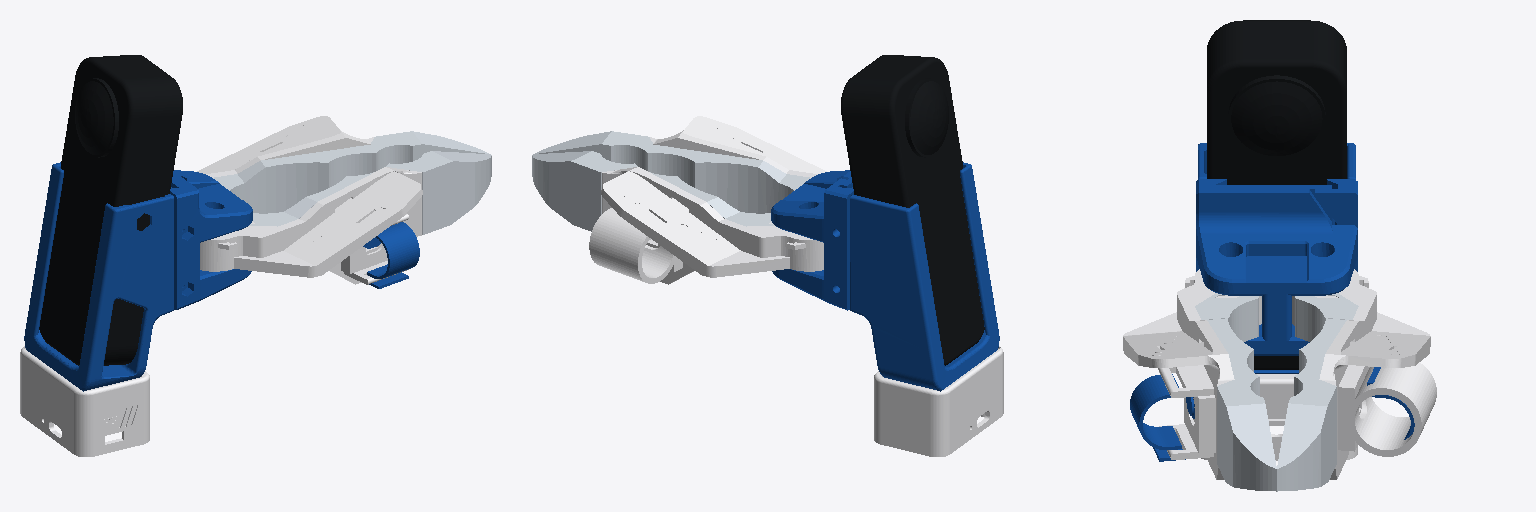
The robot description file, URDF, robot "pg_chopstick_data_right":
<?xml version="1.0"?>
<!-- PG Chopstick, generated by chopstick/cad/urdf.py. Units: m, rad. -->
<robot name="pg_chopstick_data_right">
  <material name="pg_blue"><color rgba="0.12 0.37 0.68 1"/></material>
  <material name="pg_white"><color rgba="0.96 0.96 0.97 1"/></material>
  <material name="tpu"><color rgba="0.87 0.9 0.93 1"/></material>
  <material name="camera"><color rgba="0.11 0.12 0.13 1"/></material>
  <link name="chopstick_base">
    <visual name="chopstick_base_dc"><origin xyz="0 0 0" rpy="0 0 0"/><geometry><mesh filename="meshes/chopstick_base_dc.stl" scale="0.001 0.001 0.001"/></geometry><material name="pg_blue"/></visual>
    <collision name="chopstick_base_dc"><origin xyz="0 0 0" rpy="0 0 0"/><geometry><mesh filename="meshes/chopstick_base_dc.stl" scale="0.001 0.001 0.001"/></geometry></collision>
    <visual name="chopstick_clip_dc"><origin xyz="0 0 0" rpy="0 0 0"/><geometry><mesh filename="meshes/chopstick_clip_dc.stl" scale="0.001 0.001 0.001"/></geometry><material name="pg_blue"/></visual>
    <collision name="chopstick_clip_dc"><origin xyz="0 0 0" rpy="0 0 0"/><geometry><mesh filename="meshes/chopstick_clip_dc.stl" scale="0.001 0.001 0.001"/></geometry></collision>
    <visual name="x5_lite_frame"><origin xyz="0 0 0" rpy="0 0 0"/><geometry><mesh filename="meshes/x5_lite_frame.stl" scale="0.001 0.001 0.001"/></geometry><material name="pg_blue"/></visual>
    <collision name="x5_lite_frame"><origin xyz="0 0 0" rpy="0 0 0"/><geometry><mesh filename="meshes/x5_lite_frame.stl" scale="0.001 0.001 0.001"/></geometry></collision>
    <visual name="pg_pod"><origin xyz="0 0 0" rpy="0 0 0"/><geometry><mesh filename="meshes/pg_pod.stl" scale="0.001 0.001 0.001"/></geometry><material name="pg_white"/></visual>
    <collision name="pg_pod"><origin xyz="0 0 0" rpy="0 0 0"/><geometry><mesh filename="meshes/pg_pod.stl" scale="0.001 0.001 0.001"/></geometry></collision>
    <visual name="pg_pod_lid"><origin xyz="0 0 0" rpy="0 0 0"/><geometry><mesh filename="meshes/pg_pod_lid.stl" scale="0.001 0.001 0.001"/></geometry><material name="pg_white"/></visual>
    <collision name="pg_pod_lid"><origin xyz="0 0 0" rpy="0 0 0"/><geometry><mesh filename="meshes/pg_pod_lid.stl" scale="0.001 0.001 0.001"/></geometry></collision>
    <visual name="insta360_x5_envelope"><origin xyz="0 0 0" rpy="0 0 0"/><geometry><mesh filename="meshes/insta360_x5_envelope.stl" scale="0.001 0.001 0.001"/></geometry><material name="camera"/></visual>
    <collision name="insta360_x5_envelope"><origin xyz="0 0 0" rpy="0 0 0"/><geometry><mesh filename="meshes/insta360_x5_envelope.stl" scale="0.001 0.001 0.001"/></geometry></collision>
    <inertial><origin xyz="0.0303763 0.000128389 0.00893458" rpy="0 0 0"/><mass value="0.27072"/><inertia ixx="0.0004251" ixy="5.685e-07" ixz="-5.066e-05" iyy="0.0004304" iyz="1.407e-06" izz="0.0001112"/></inertial>
  </link>
  <link name="chopstick_jaw_left">
    <visual name="tip_tpu_left"><origin xyz="0 0 0" rpy="0 0 0"/><geometry><mesh filename="meshes/tip_tpu_left_jawframe.stl" scale="0.001 0.001 0.001"/></geometry><material name="tpu"/></visual>
    <collision name="tip_tpu_left"><origin xyz="0 0 0" rpy="0 0 0"/><geometry><mesh filename="meshes/tip_tpu_left_jawframe.stl" scale="0.001 0.001 0.001"/></geometry></collision>
    <visual name="sleeve_strap_left"><origin xyz="0 0 0" rpy="0 0 0"/><geometry><mesh filename="meshes/sleeve_strap_left_jawframe.stl" scale="0.001 0.001 0.001"/></geometry><material name="pg_blue"/></visual>
    <collision name="sleeve_strap_left"><origin xyz="0 0 0" rpy="0 0 0"/><geometry><mesh filename="meshes/sleeve_strap_left_jawframe.stl" scale="0.001 0.001 0.001"/></geometry></collision>
    <visual name="jaw_left_dc"><origin xyz="0 0 0" rpy="0 0 0"/><geometry><mesh filename="meshes/jaw_left_dc_jawframe.stl" scale="0.001 0.001 0.001"/></geometry><material name="pg_white"/></visual>
    <collision name="jaw_left_dc"><origin xyz="0 0 0" rpy="0 0 0"/><geometry><mesh filename="meshes/jaw_left_dc_jawframe.stl" scale="0.001 0.001 0.001"/></geometry></collision>
    <inertial><origin xyz="0.0651854 0.00374824 -0.00374808" rpy="0 0 0"/><mass value="0.054642"/><inertia ixx="9.108e-06" ixy="7.191e-06" ixz="1.243e-06" iyy="6.957e-05" iyz="1.893e-07" izz="7.157e-05"/></inertial>
  </link>
  <link name="chopstick_tip_left"/>
  <link name="chopstick_jaw_right">
    <visual name="tip_tpu_right"><origin xyz="0 0 0" rpy="0 0 0"/><geometry><mesh filename="meshes/tip_tpu_right_jawframe.stl" scale="0.001 0.001 0.001"/></geometry><material name="tpu"/></visual>
    <collision name="tip_tpu_right"><origin xyz="0 0 0" rpy="0 0 0"/><geometry><mesh filename="meshes/tip_tpu_right_jawframe.stl" scale="0.001 0.001 0.001"/></geometry></collision>
    <visual name="sleeve_strap_right"><origin xyz="0 0 0" rpy="0 0 0"/><geometry><mesh filename="meshes/sleeve_strap_right_jawframe.stl" scale="0.001 0.001 0.001"/></geometry><material name="pg_blue"/></visual>
    <collision name="sleeve_strap_right"><origin xyz="0 0 0" rpy="0 0 0"/><geometry><mesh filename="meshes/sleeve_strap_right_jawframe.stl" scale="0.001 0.001 0.001"/></geometry></collision>
    <visual name="jaw_right_dc_button"><origin xyz="0 0 0" rpy="0 0 0"/><geometry><mesh filename="meshes/jaw_right_dc_button_jawframe.stl" scale="0.001 0.001 0.001"/></geometry><material name="pg_white"/></visual>
    <collision name="jaw_right_dc_button"><origin xyz="0 0 0" rpy="0 0 0"/><geometry><mesh filename="meshes/jaw_right_dc_button_jawframe.stl" scale="0.001 0.001 0.001"/></geometry></collision>
    <visual name="sleeve_button_cover_right"><origin xyz="0 0 0" rpy="0 0 0"/><geometry><mesh filename="meshes/sleeve_button_cover_right_jawframe.stl" scale="0.001 0.001 0.001"/></geometry><material name="pg_blue"/></visual>
    <collision name="sleeve_button_cover_right"><origin xyz="0 0 0" rpy="0 0 0"/><geometry><mesh filename="meshes/sleeve_button_cover_right_jawframe.stl" scale="0.001 0.001 0.001"/></geometry></collision>
    <inertial><origin xyz="0.0651759 -0.00371033 -0.00403049" rpy="0 0 0"/><mass value="0.054482"/><inertia ixx="9.286e-06" ixy="-7.159e-06" ixz="1.286e-06" iyy="6.99e-05" iyz="-4.554e-07" izz="7.165e-05"/></inertial>
  </link>
  <link name="chopstick_tip_right"/>
  <link name="chopstick_camera"/>
  <link name="chopstick_tcp"/>
  <joint name="chopstick_jaw" type="revolute">
    <parent link="chopstick_base"/><child link="chopstick_jaw_left"/>
    <origin xyz="0.06733 0.015 0" rpy="0 0 0"/><axis xyz="0 0 1"/>
    <limit lower="0.00000" upper="1.25664" effort="4" velocity="6"/>
  </joint>
  <joint name="chopstick_tip_left_joint" type="fixed"><parent link="chopstick_jaw_left"/><child link="chopstick_tip_left"/><origin xyz="0.137417 -0.015085 -0.003671" rpy="0 0 0"/></joint>
  <joint name="chopstick_jaw_right" type="revolute">
    <parent link="chopstick_base"/><child link="chopstick_jaw_right"/>
    <origin xyz="0.06733 -0.015 0" rpy="0 0 0"/><axis xyz="0 0 1"/>
    <limit lower="-1.25664" upper="0.00000" effort="4" velocity="6"/>
    <mimic joint="chopstick_jaw" multiplier="-1" offset="0"/>
  </joint>
  <joint name="chopstick_tip_right_joint" type="fixed"><parent link="chopstick_jaw_right"/><child link="chopstick_tip_right"/><origin xyz="0.137417 0.015085 -0.003671" rpy="0 0 0"/></joint>
  <joint name="chopstick_camera_joint" type="fixed"><parent link="chopstick_base"/><child link="chopstick_camera"/><origin xyz="0.034420877 0 0.057" rpy="0 0.174532726 0"/></joint>
  <joint name="chopstick_tcp_joint" type="fixed"><parent link="chopstick_base"/><child link="chopstick_tcp"/><origin xyz="0.204747 0 -0.003671" rpy="0 0 0"/></joint>
</robot>

--- Render facts (derived) ---
Views: 3 orthographic renders of the robot side by side, from view 1: azimuth 30°, elevation 25°; view 2: azimuth 150°, elevation 25°; view 3: azimuth 270°, elevation 25°.
Robot: pg_chopstick_data_right — 7 links, 6 joints (2 revolute, 4 fixed); root link chopstick_base; default pose: every joint at zero.
Links seen in each view (by area): view 1: chopstick_base, chopstick_jaw_right, chopstick_jaw_left; view 2: chopstick_base, chopstick_jaw_left, chopstick_jaw_right; view 3: chopstick_base, chopstick_jaw_left, chopstick_jaw_right.
Boxes of the visible links, <box> form: chopstick_base: <box>20,55,252,456</box>; chopstick_jaw_right: <box>200,151,491,288</box>; chopstick_jaw_left: <box>197,116,488,213</box>; chopstick_base: <box>771,55,1003,456</box>; chopstick_jaw_left: <box>532,151,823,284</box>; chopstick_jaw_right: <box>535,116,826,213</box>; chopstick_base: <box>1196,20,1357,460</box>; chopstick_jaw_left: <box>1277,269,1436,491</box>; chopstick_jaw_right: <box>1123,269,1276,491</box>.
Bounding box of the posed robot: 0.2064 × 0.1029 × 0.1563 m (x, y, z).
12 mesh visuals loaded from 13 distinct referenced files (12 binary STL); not drawn: 1 (reference not matched to a file when rendering).
